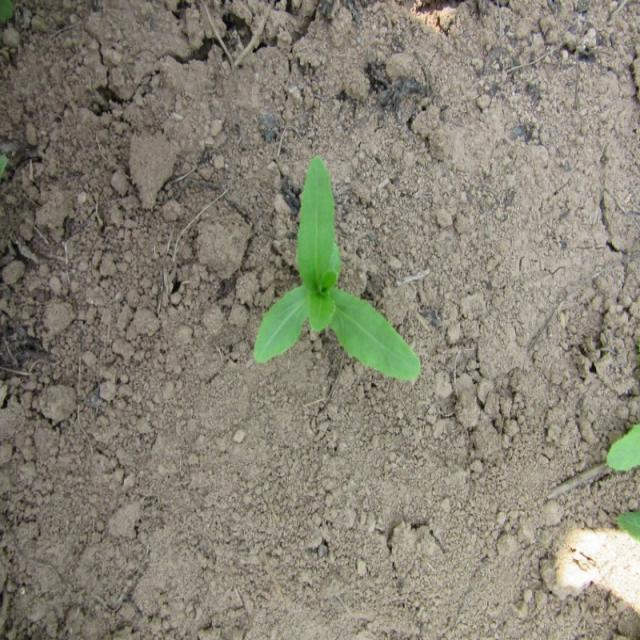field_thistle: (251, 161, 438, 418)
